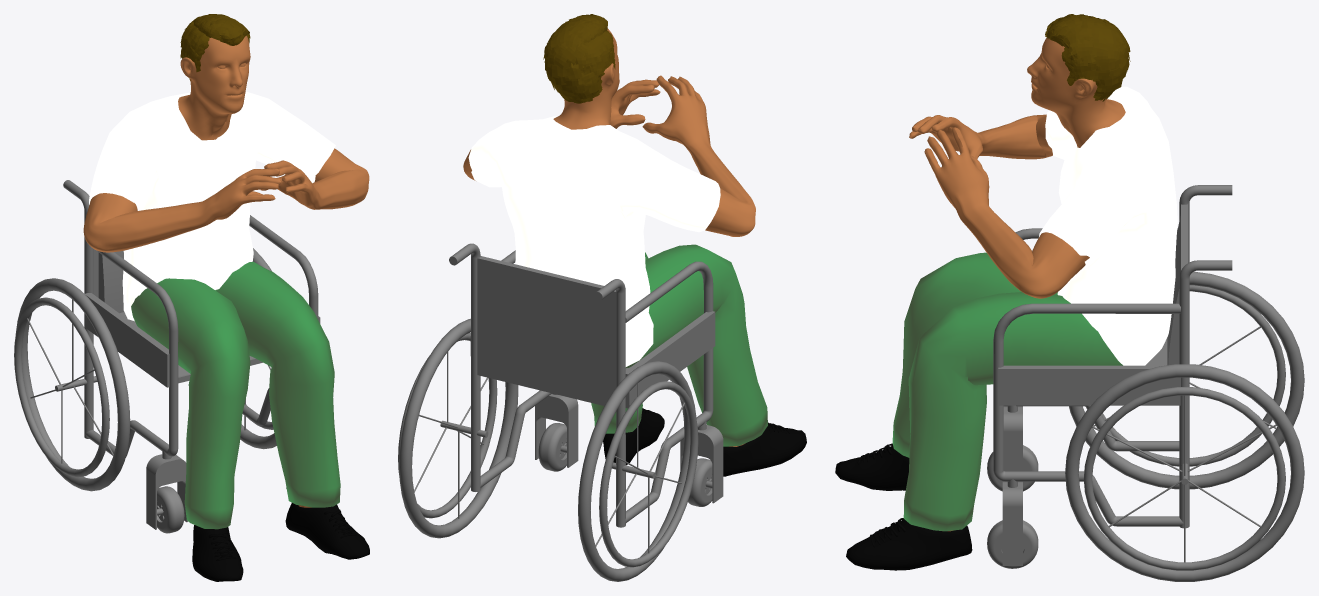
Rendered from Man_01_Sitting-transformed.glb.
The picture shows the model from 3 angles, left to right: view 1: azimuth 30°, elevation 25°; view 2: azimuth 150°, elevation 25°; view 3: azimuth 270°, elevation 25°; orthographic projection. The views are drawn at different scales.
Parts seen in each view (by area): view 1: Bottoms.001, Chair.001, Top.001, Body.001, Shoes.001, Hair.001; view 2: Chair.001, Top.001, Bottoms.001, Body.001, Hair.001, Shoes.001; view 3: Chair.001, Bottoms.001, Top.001, Body.001, Shoes.001, Hair.001.
Part boxes in pixels (box(x1,y1,x2,y2)): Bottoms.001: box(131, 261, 340, 529); Chair.001: box(14, 180, 320, 533); Top.001: box(89, 91, 335, 321); Body.001: box(83, 35, 369, 507); Shoes.001: box(192, 503, 369, 581); Hair.001: box(180, 14, 250, 80); Chair.001: box(398, 243, 723, 581); Top.001: box(468, 116, 720, 366); Bottoms.001: box(591, 244, 767, 446); Body.001: box(463, 28, 755, 446); Hair.001: box(543, 14, 615, 103); Shoes.001: box(603, 408, 806, 476); Chair.001: box(987, 185, 1304, 581); Bottoms.001: box(892, 252, 1122, 531); Top.001: box(1039, 86, 1177, 365); Body.001: box(909, 37, 1125, 531); Shoes.001: box(835, 443, 972, 570); Hair.001: box(1045, 14, 1130, 101).
Bounding box in the file's own units: 0.8776 × 1.44 × 1.17.
